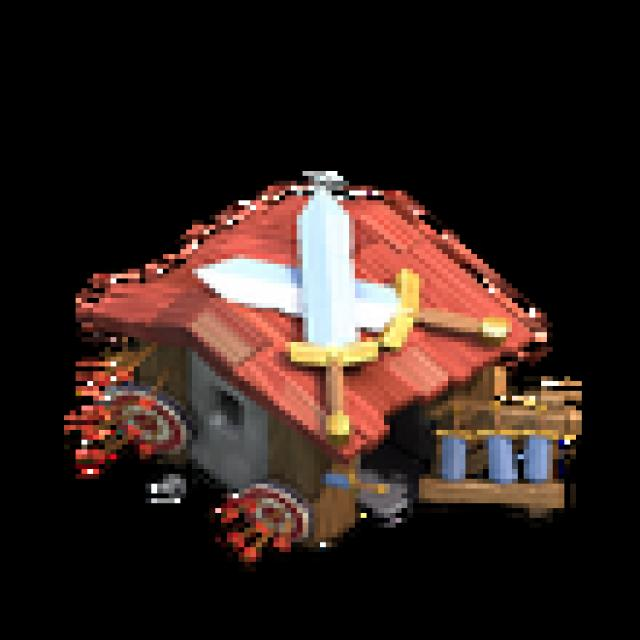barracks: (46, 172, 594, 592)
